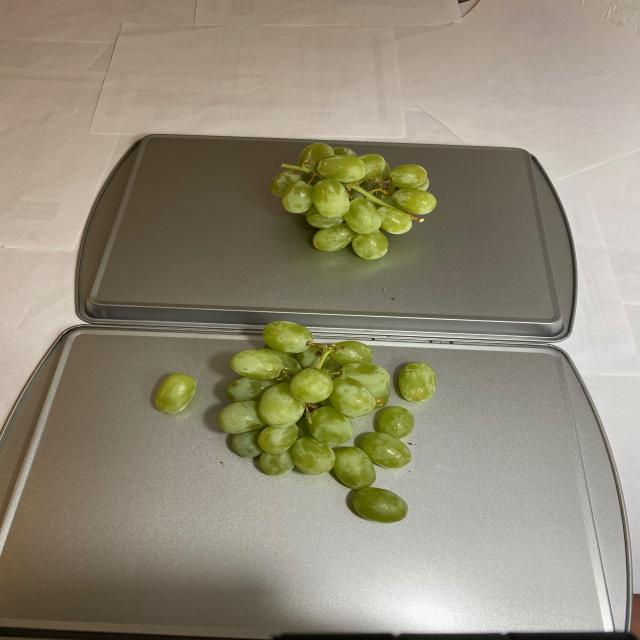grapes: (157, 323, 431, 526), (270, 143, 438, 260)
